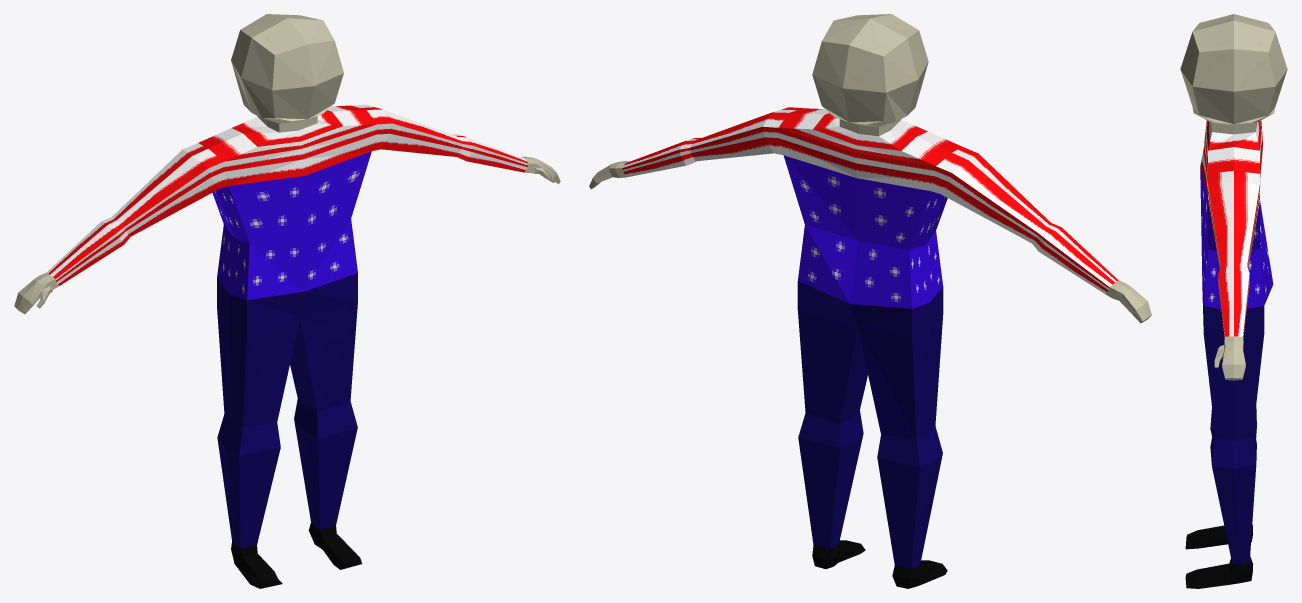
Rendered from BMan_02.obj.
The picture shows the model from 3 angles, left to right: view 1: azimuth 30°, elevation 25°; view 2: azimuth 150°, elevation 25°; view 3: azimuth 270°, elevation 25°; orthographic projection. The views are drawn at different scales.
Parts seen in each view (by area): view 1: Cube; view 2: Cube; view 3: Cube.
Boxes of the visible parts, <box> form: Cube: <box>14,14,560,588</box>; Cube: <box>589,14,1151,588</box>; Cube: <box>1180,14,1287,588</box>.
Bounding box in the file's own units: 17.97 × 17.24 × 3.09.
1 material, 1 textured.
